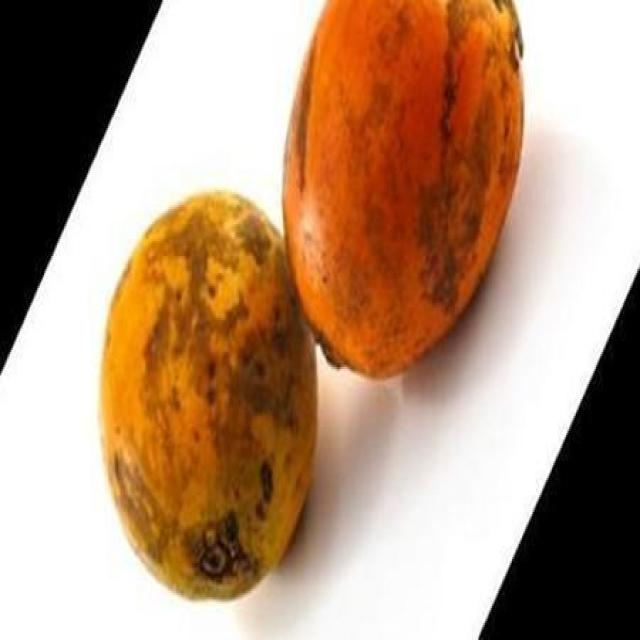good: (283, 0, 525, 382), (98, 190, 319, 604)
